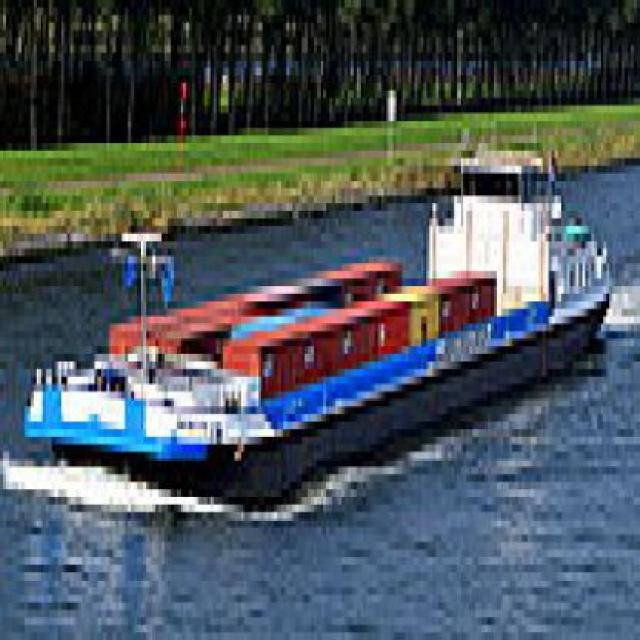container: (14, 122, 623, 551)
